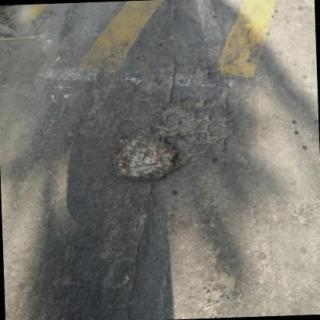pothole: (115, 99, 235, 182)
